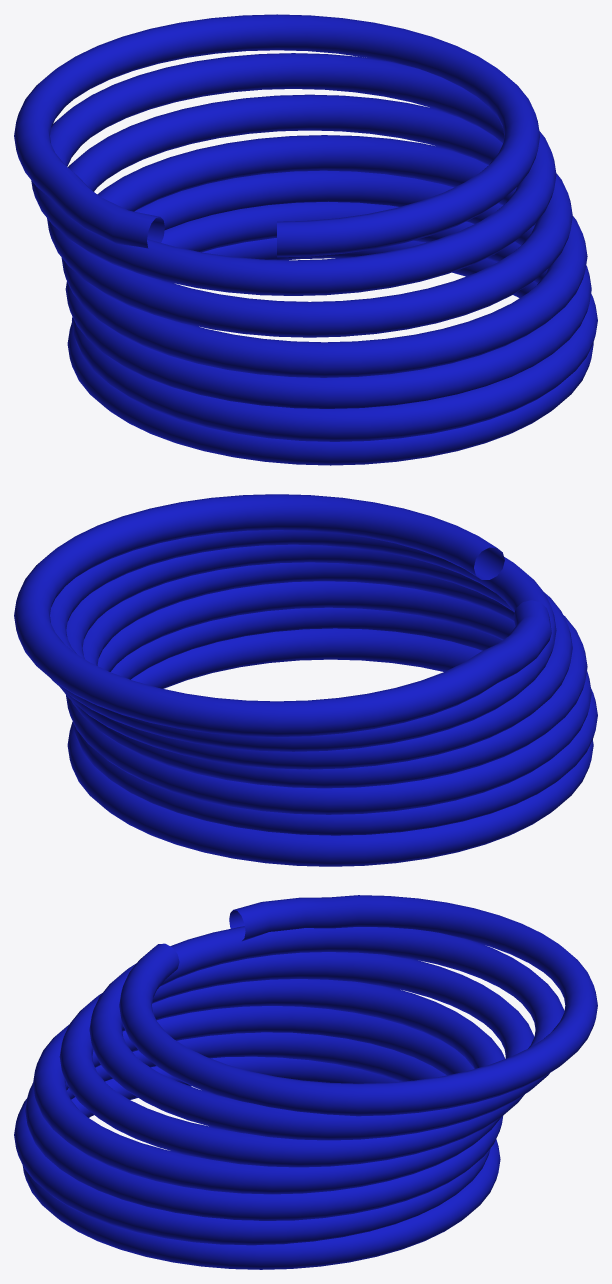
The model's file is coil_one.FBX.
3 views of the same model, one above another, from view 1: azimuth 30°, elevation 25°; view 2: azimuth 150°, elevation 25°; view 3: azimuth 270°, elevation 25° (orthographic). The views are drawn at different scales.
Visible parts, largest first — view 1: Torus001; view 2: Torus001; view 3: Torus001.
Boxes of the visible parts, left/top/right/bottom form: Torus001: left=14, top=14, right=597, bottom=465; Torus001: left=14, top=494, right=597, bottom=866; Torus001: left=14, top=895, right=597, bottom=1269.
Bounding box in the file's own units: 80.7 × 34 × 98.19.
